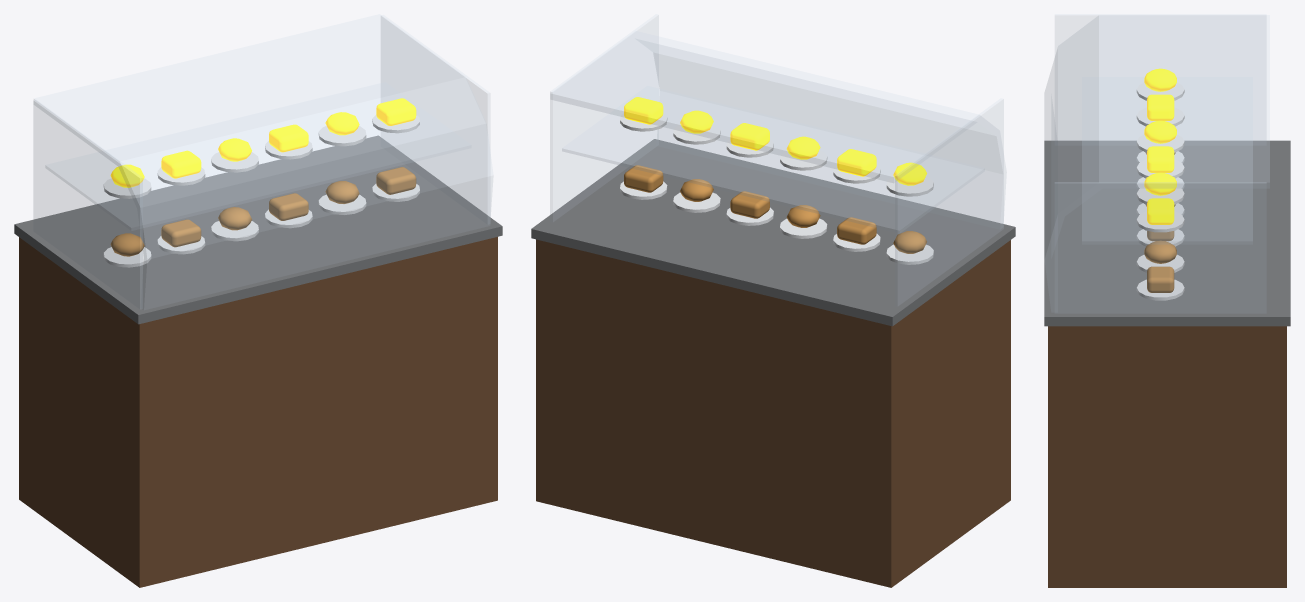
File: hsp-009.glb
3 views of the same model, side by side, from view 1: azimuth 30°, elevation 25°; view 2: azimuth 150°, elevation 25°; view 3: azimuth 270°, elevation 25° (orthographic).
Parts seen in each view (by area): view 1: walnut, glass_clear, stone_top, white, sign_yellow, pastry; view 2: walnut, glass_clear, stone_top, white, sign_yellow, pastry; view 3: glass_clear, walnut, stone_top, white, sign_yellow, pastry.
Part boxes in pixels (x1,y1,x2,y2): walnut: (19, 237, 497, 587); glass_clear: (33, 14, 492, 309); stone_top: (14, 135, 502, 324); white: (103, 114, 419, 267); sign_yellow: (110, 98, 416, 187); pastry: (110, 167, 416, 256); walnut: (536, 239, 1010, 587); glass_clear: (550, 14, 1006, 305); stone_top: (531, 139, 1015, 326); white: (620, 113, 933, 264); sign_yellow: (624, 97, 926, 185); pastry: (624, 165, 926, 253); glass_clear: (1045, 14, 1269, 312); walnut: (1048, 326, 1286, 587); stone_top: (1044, 140, 1290, 326); white: (1136, 82, 1184, 300); sign_yellow: (1144, 68, 1176, 224); pastry: (1144, 152, 1176, 292).
Size of the model in its own units: 1.22 by 1.3 by 0.72.
